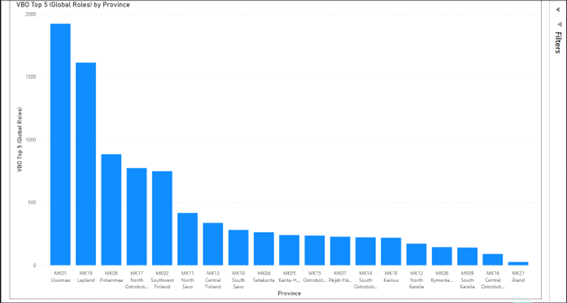

The page's visual inventory and layout, read from the dashboard file:
{"tool":"powerbi","page":{"name":"Page 5","canvas":[1280,720],"ordinal":4},"visuals":[{"type":"columnChart","fields":{"Category":["VacbyOcc_NEW.Province"],"Y":["VacbyOcc_NEW.VBO Top 5 (Global Roles)"]},"box":[9.8,0,1269.9,720.2],"z":0}]}

Visuals, with their boxes on the page's 1280x720 design canvas (x1, y1, x2, y2). These are canvas units, not pixel positions in the 567x303 screenshot, which may show the page scaled, cropped or inside an application window:
columnChart - VacbyOcc_NEW.Province x VacbyOcc_NEW.VBO Top 5 (Global Roles): [x1=10, y1=0, x2=1280, y2=720]
